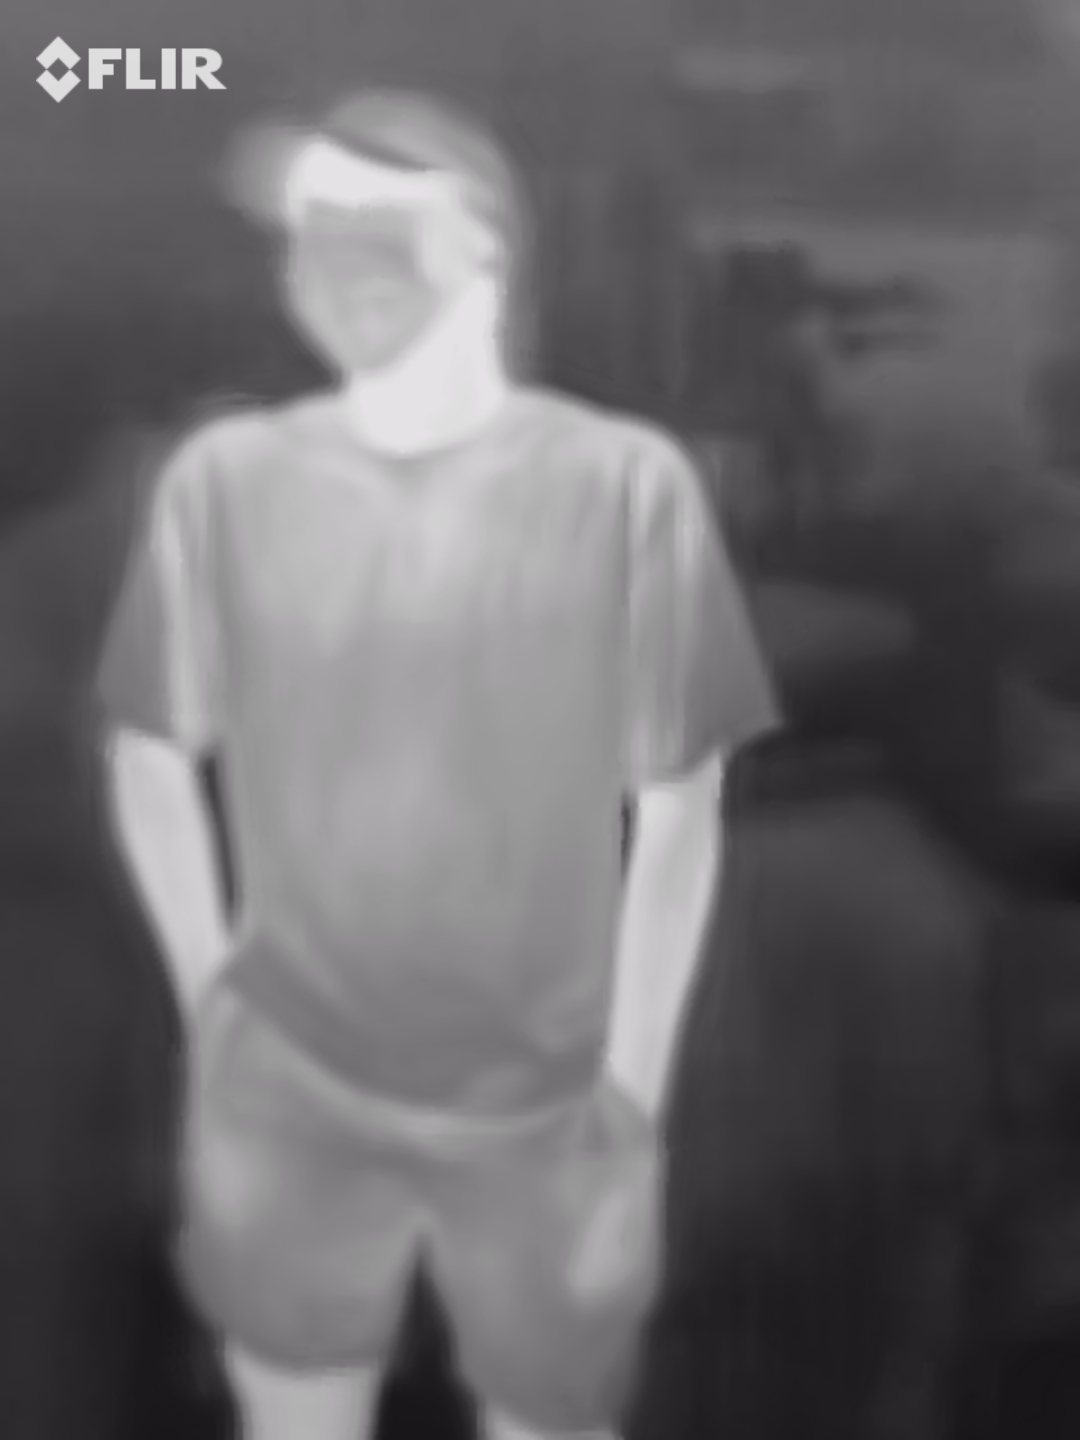head: (277, 89, 524, 389)
